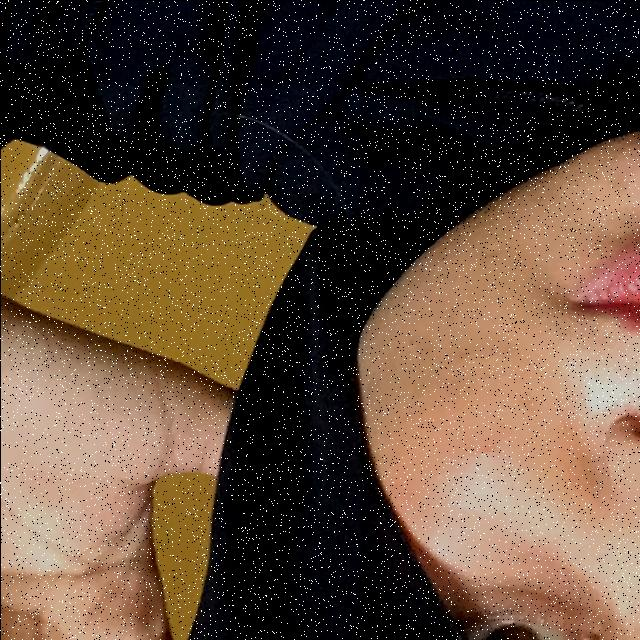mendengar: (0, 84, 360, 640)
